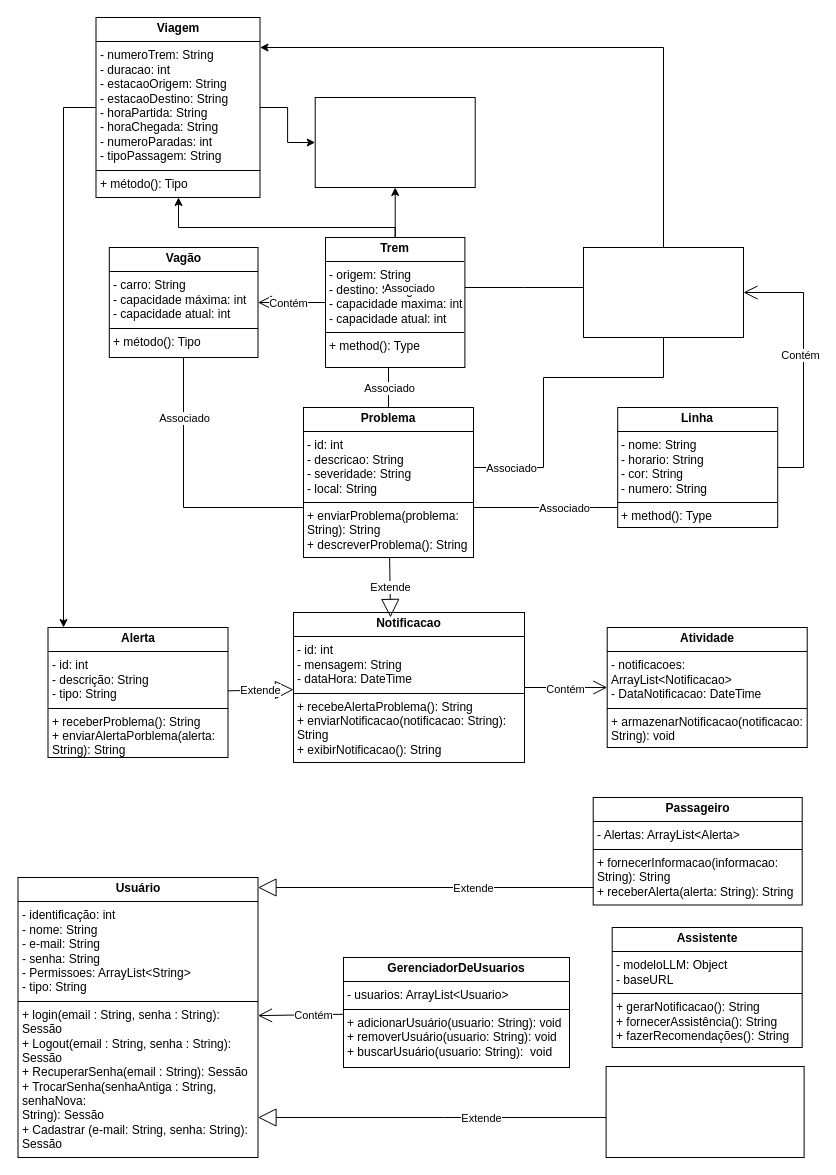
This 836x1175 diagram has some shape labels left out. The centre of each missing label's shape, as x and y in pixels:
Estação - nome: String - localizacao: String + method(): Type: point 663,292
Funcionario - cargo: String + receberInformacao(Alerta : String): String: point 704,1112
Parada + field: Type + method(): Type: point 394,142
